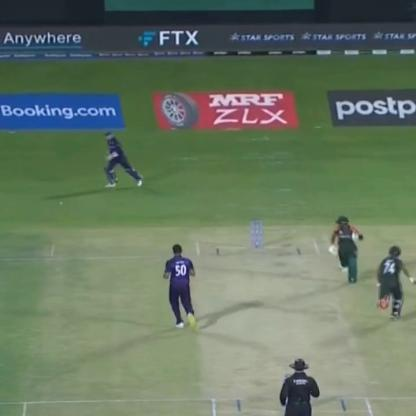ball: (57, 194, 66, 210)
pitch: (188, 232, 377, 415)
